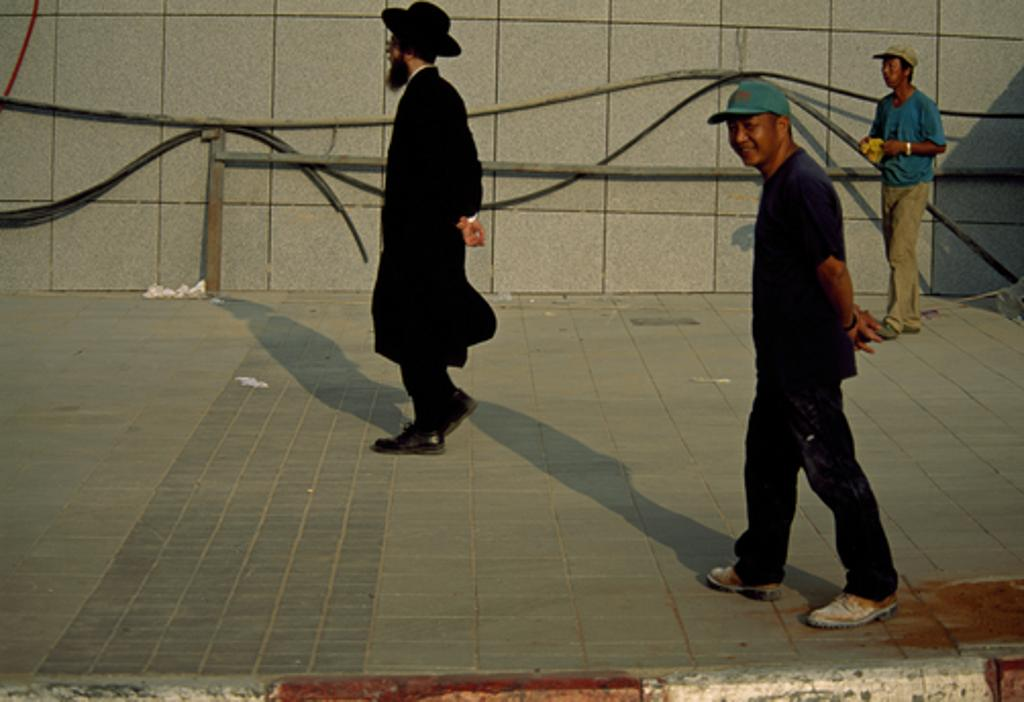face: (727, 113, 775, 166), (385, 34, 405, 70), (881, 57, 903, 87)
